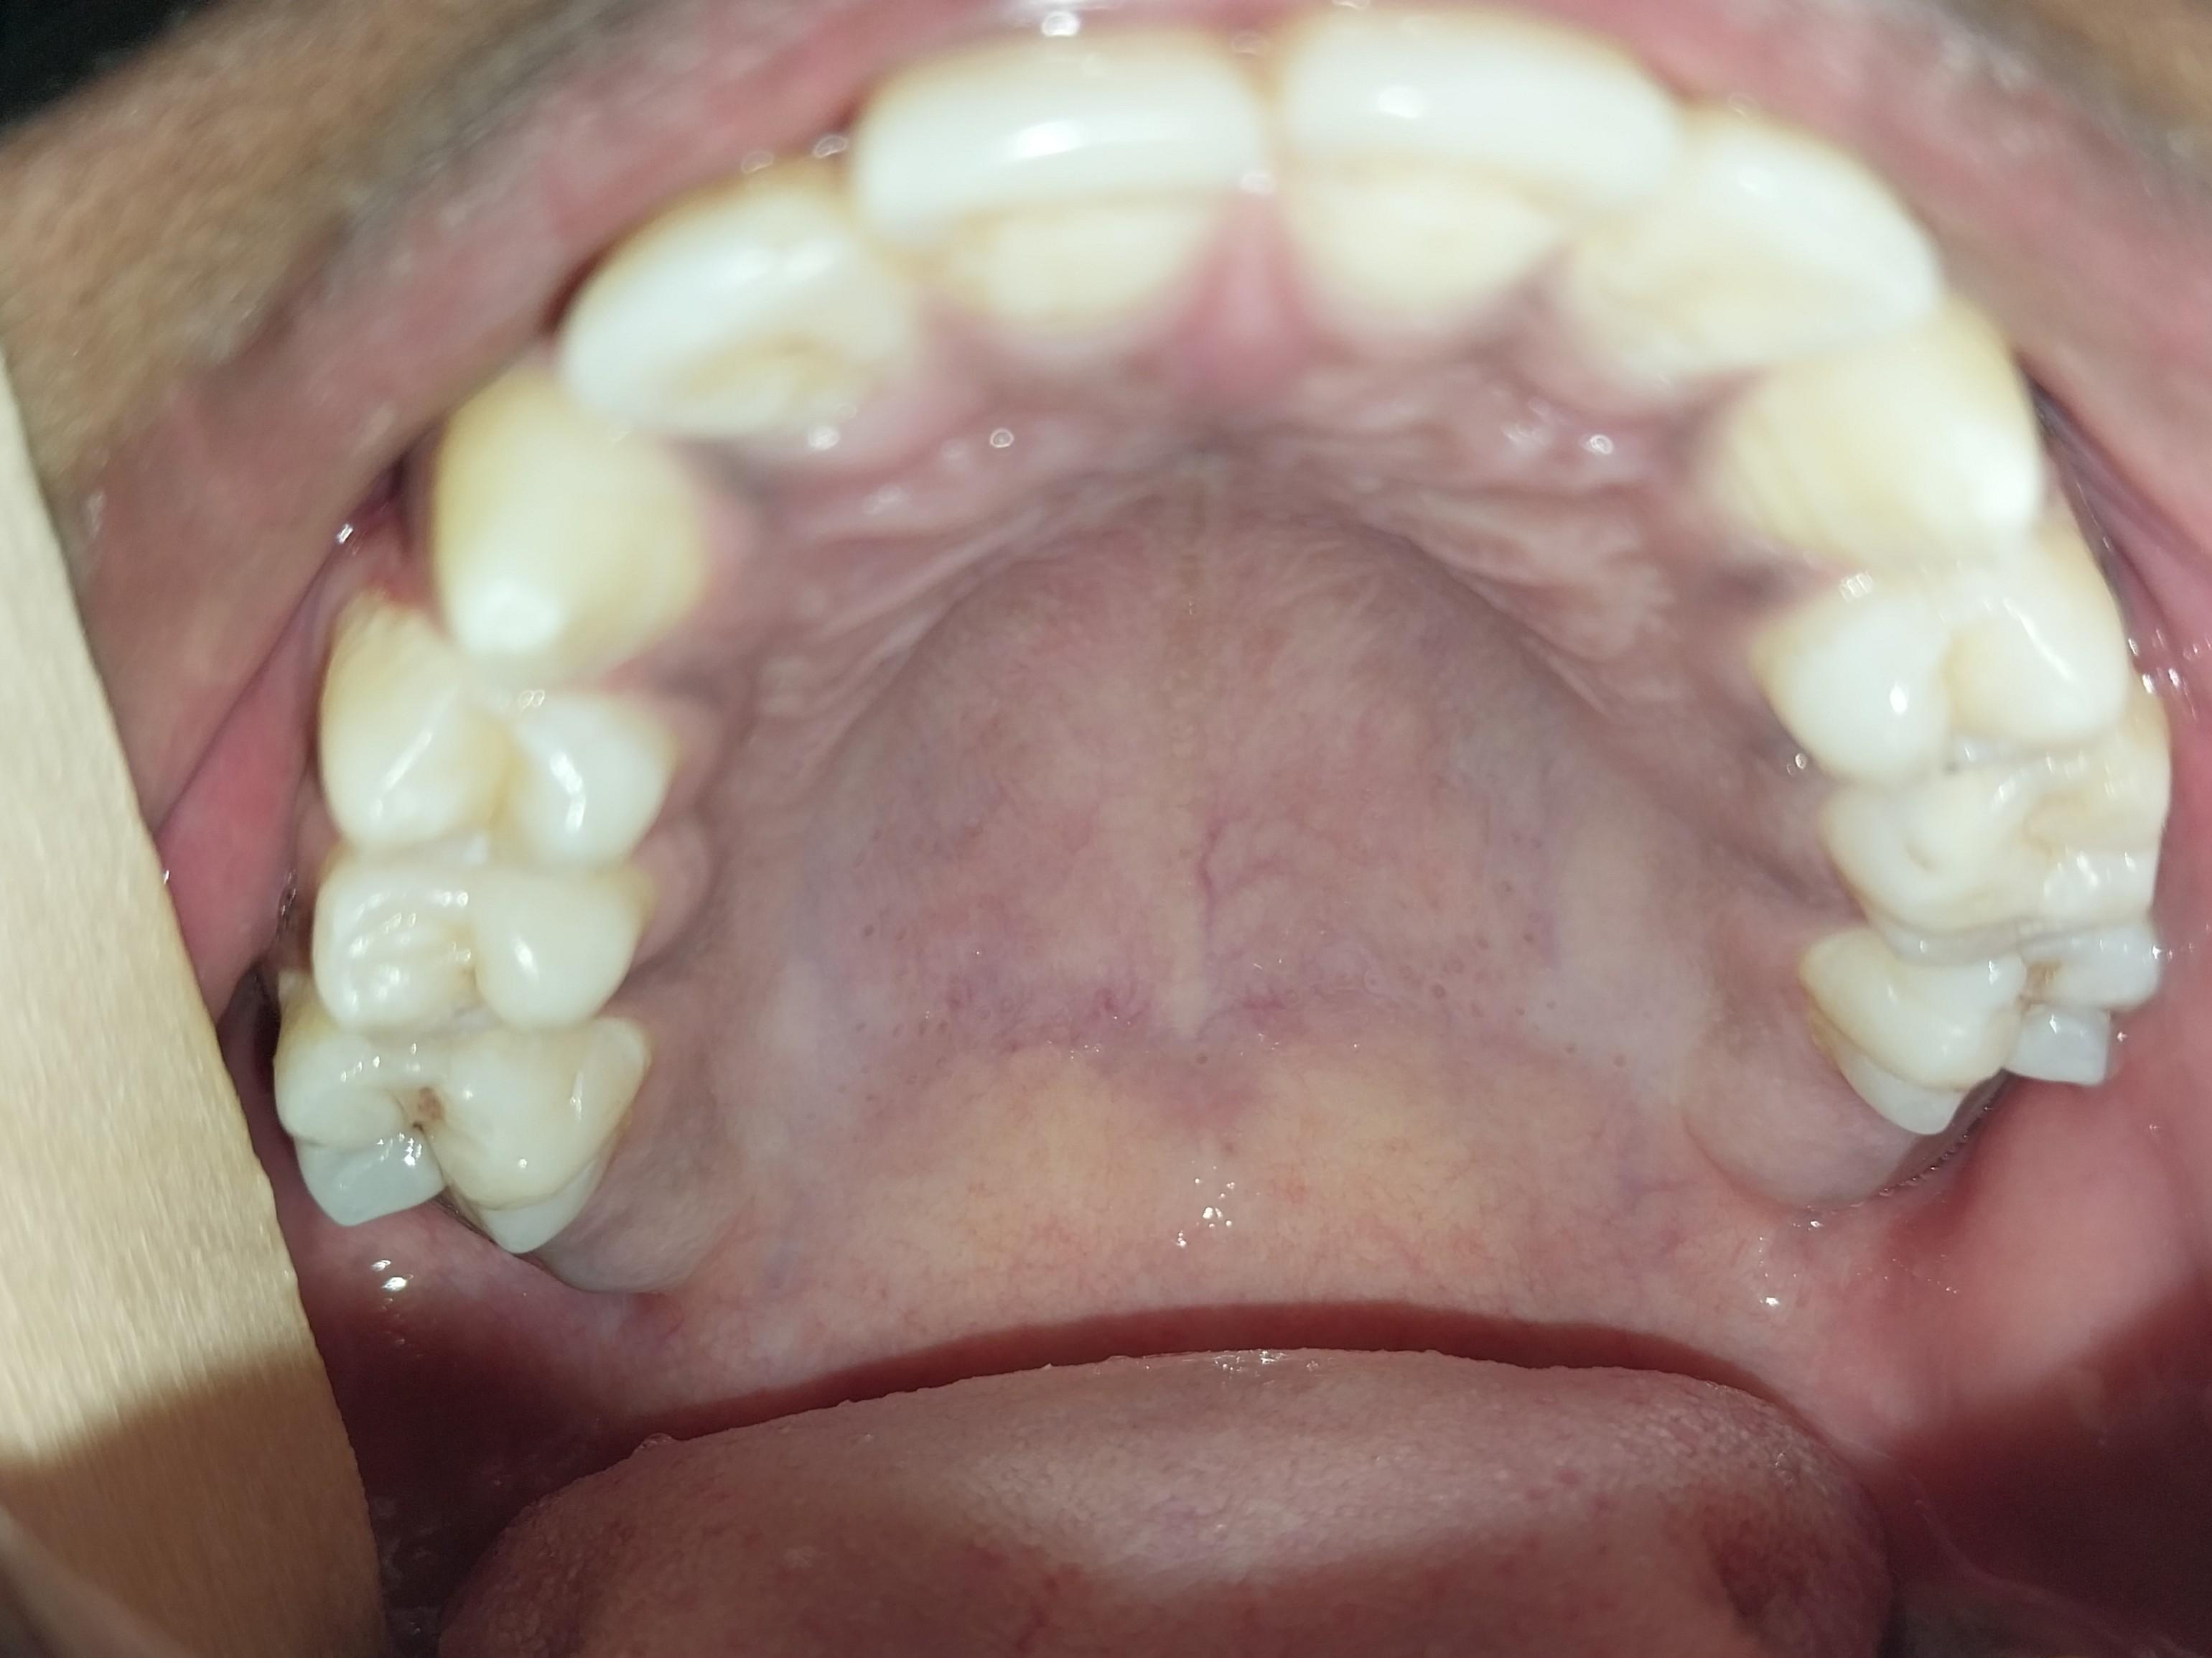D: (270, 979, 649, 1257)
